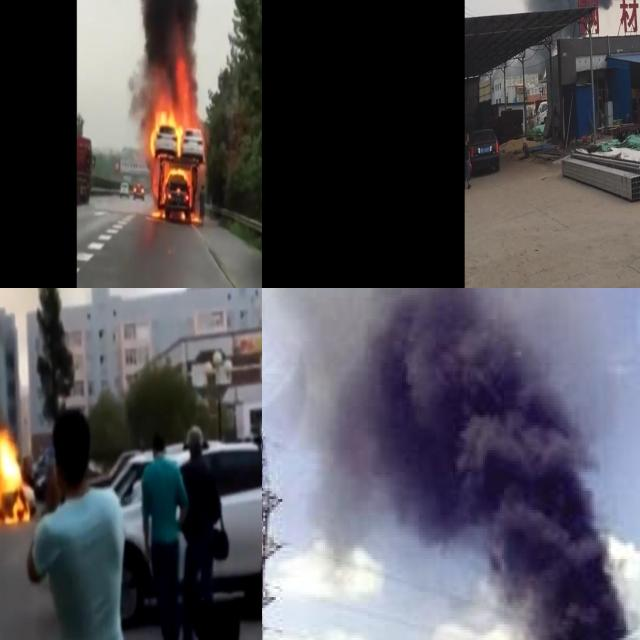fire: (145, 70, 204, 226), (0, 426, 30, 528)
smoke: (283, 288, 636, 640), (77, 0, 210, 78)
